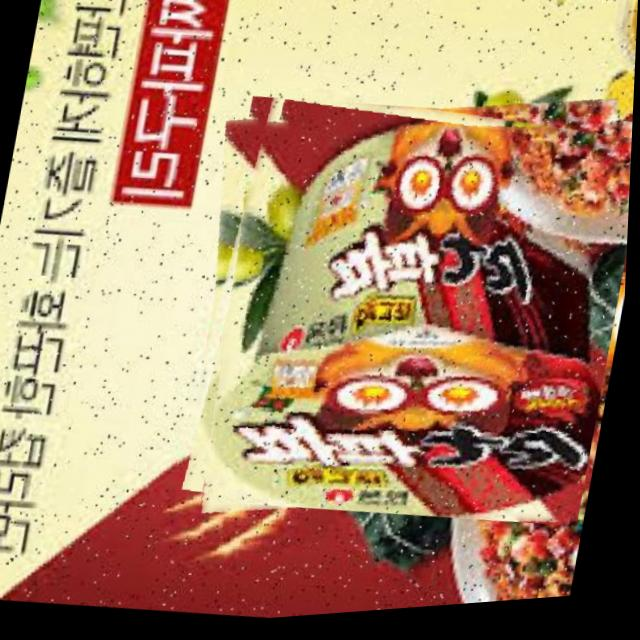Miscellaneous: (170, 64, 636, 558)
